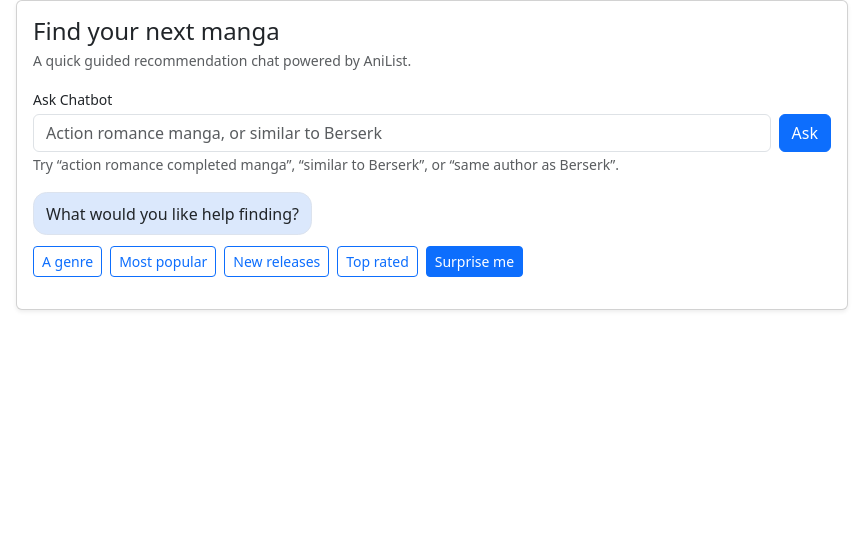
GuidedRecommendationChat › omits titles already in the signed-in reader’s library
Click the button "A genre": [68, 261] box left=33, top=246, right=102, bottom=277
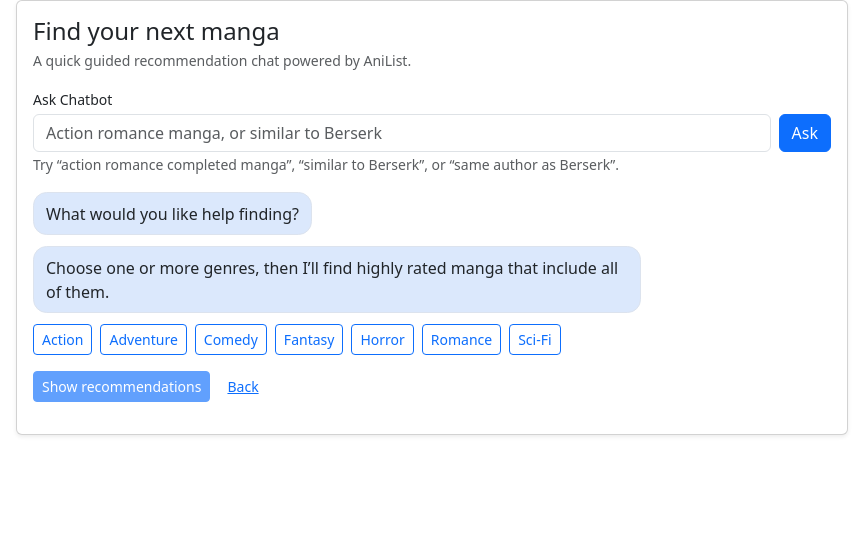
Click the button "Action": [63, 339] box left=33, top=324, right=92, bottom=355
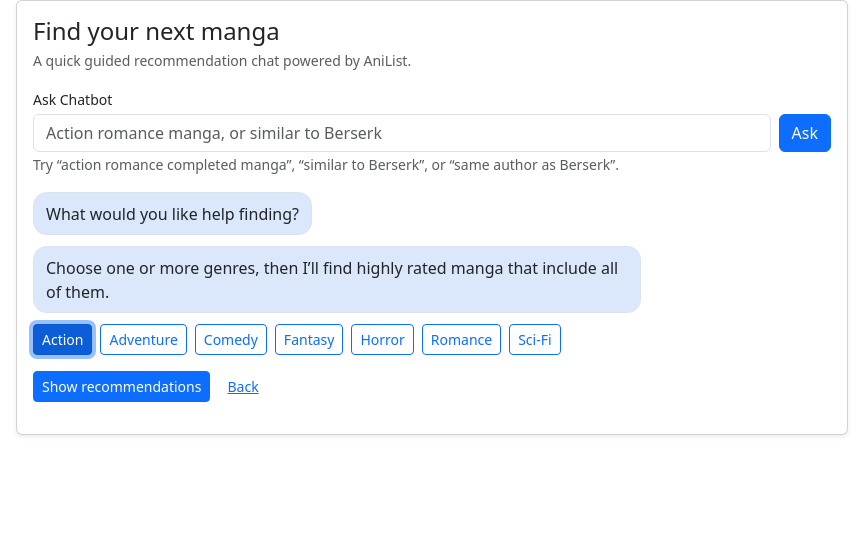
Click the button "Show recommendations": [122, 386] box left=33, top=371, right=210, bottom=402
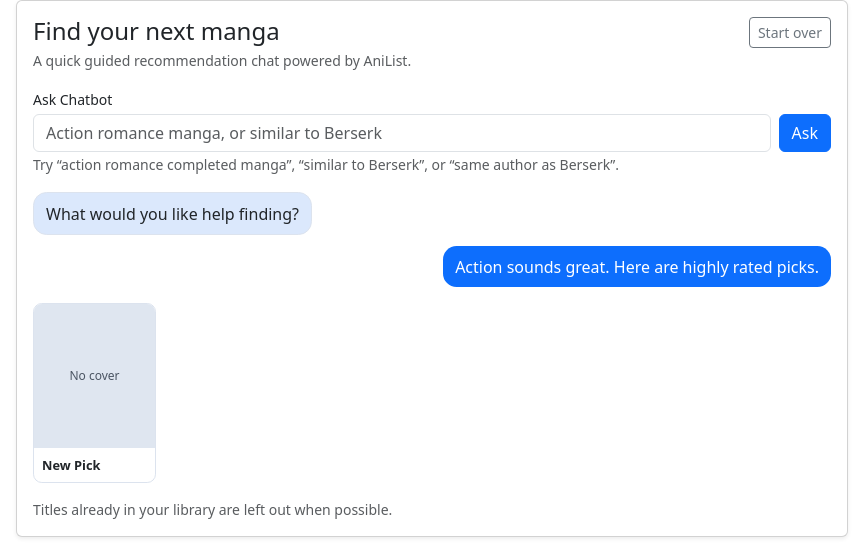
Expected: the text "New Pick" is shown, left=42, top=456, right=100, bottom=474
